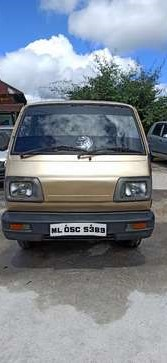ML05C5389: (49, 222, 106, 236)
